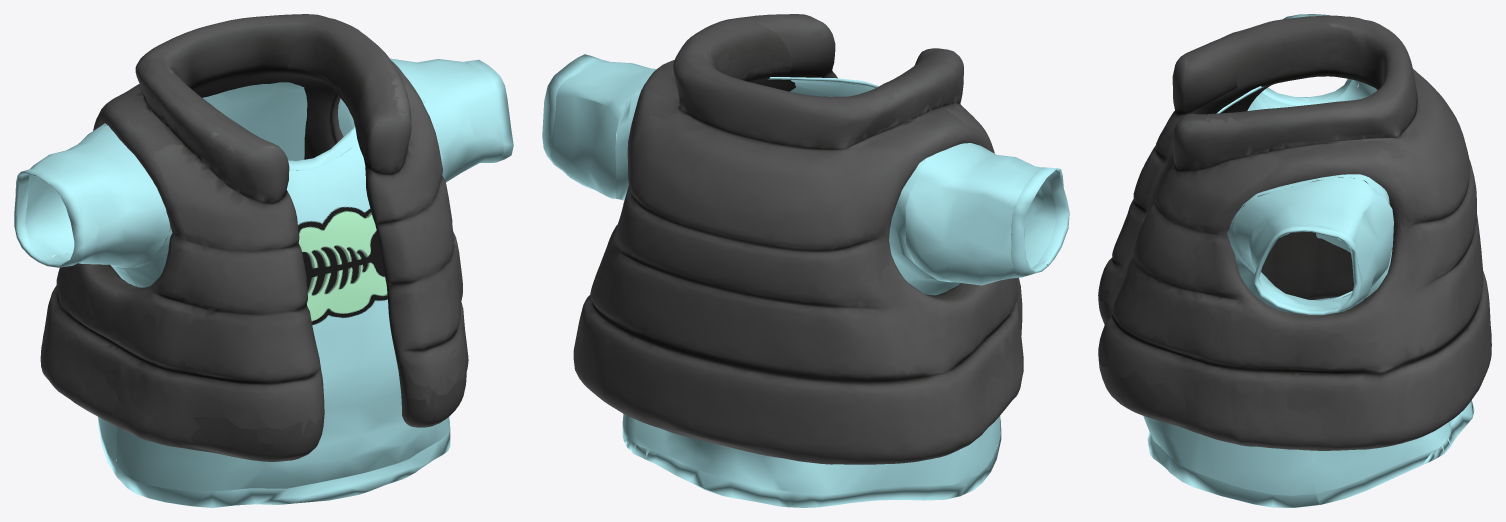
File: Vest.glb
3 renders of one model, left to right at view 1: azimuth 30°, elevation 25°; view 2: azimuth 150°, elevation 25°; view 3: azimuth 270°, elevation 25°, orthographic. The views are drawn at different scales.
Visible parts, largest first — view 1: Vest; view 2: Vest; view 3: Vest.
Part boxes in pixels (x1,y1,x2,y2): Vest: [14, 14, 513, 507]; Vest: [542, 14, 1069, 507]; Vest: [1098, 14, 1491, 507].
Size of the model in its own units: 0.5125 by 0.4133 by 0.3904.
2 materials, 2 textured.
